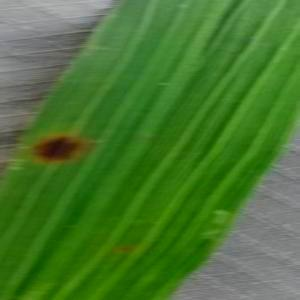0 BrownSpot: (15, 118, 95, 178)
